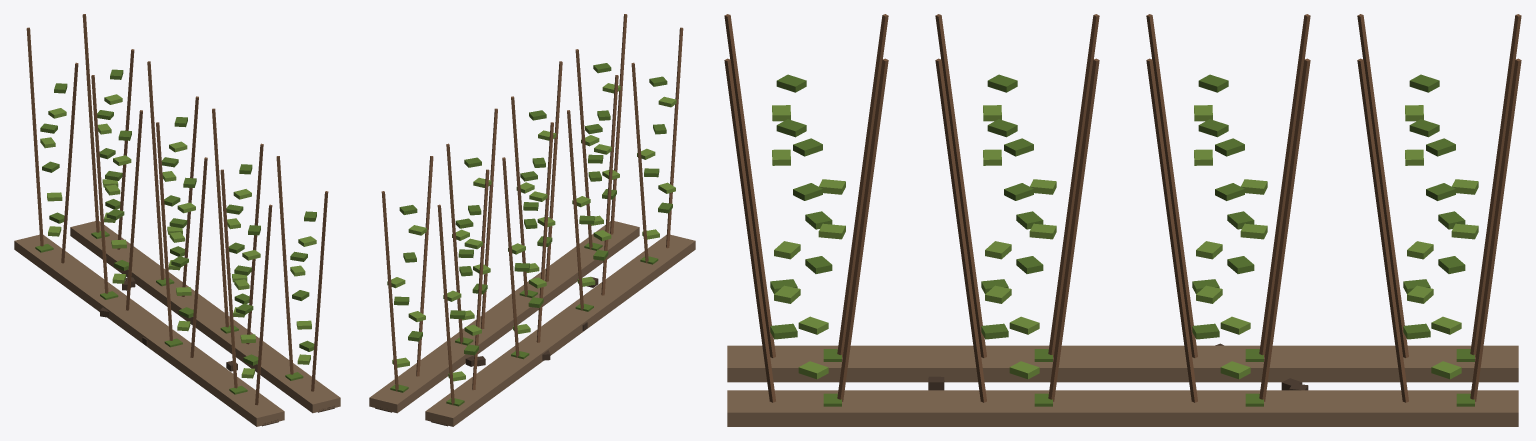
Rendered from crop_beans_3.glb.
3 views of the same model, side by side, from view 1: azimuth 30°, elevation 25°; view 2: azimuth 150°, elevation 25°; view 3: azimuth 270°, elevation 25° (orthographic). The views are drawn at different scales.
Parts seen in each view (by area): view 1: room_crop_beans_3; view 2: room_crop_beans_3; view 3: room_crop_beans_3.
Part boxes in pixels (bbox=[...]): room_crop_beans_3: bbox=[14, 14, 340, 426]; room_crop_beans_3: bbox=[369, 14, 695, 426]; room_crop_beans_3: bbox=[724, 14, 1521, 426].
Size of the model in its own units: 0.6412 by 1.5 by 3.02.
